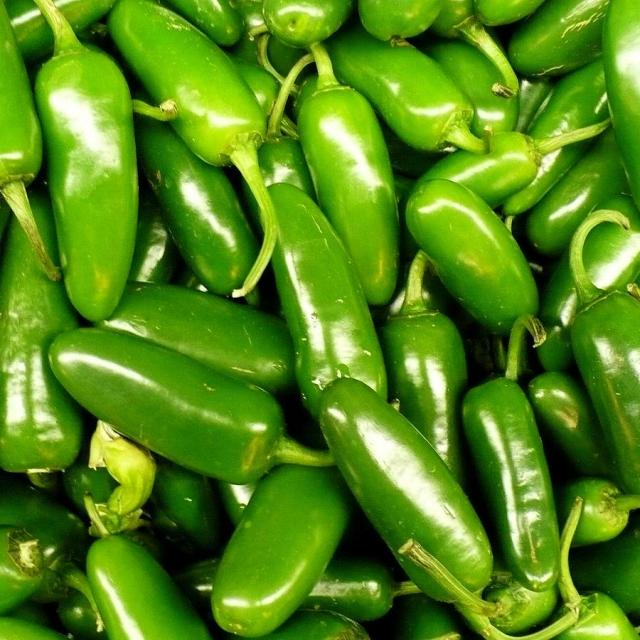aji: (8, 10, 629, 640)
